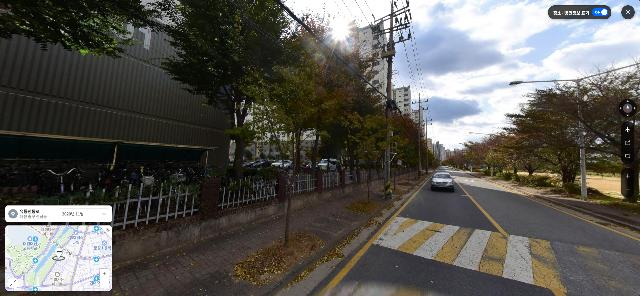other: (225, 0, 356, 246), (115, 0, 294, 177), (494, 59, 640, 198)
